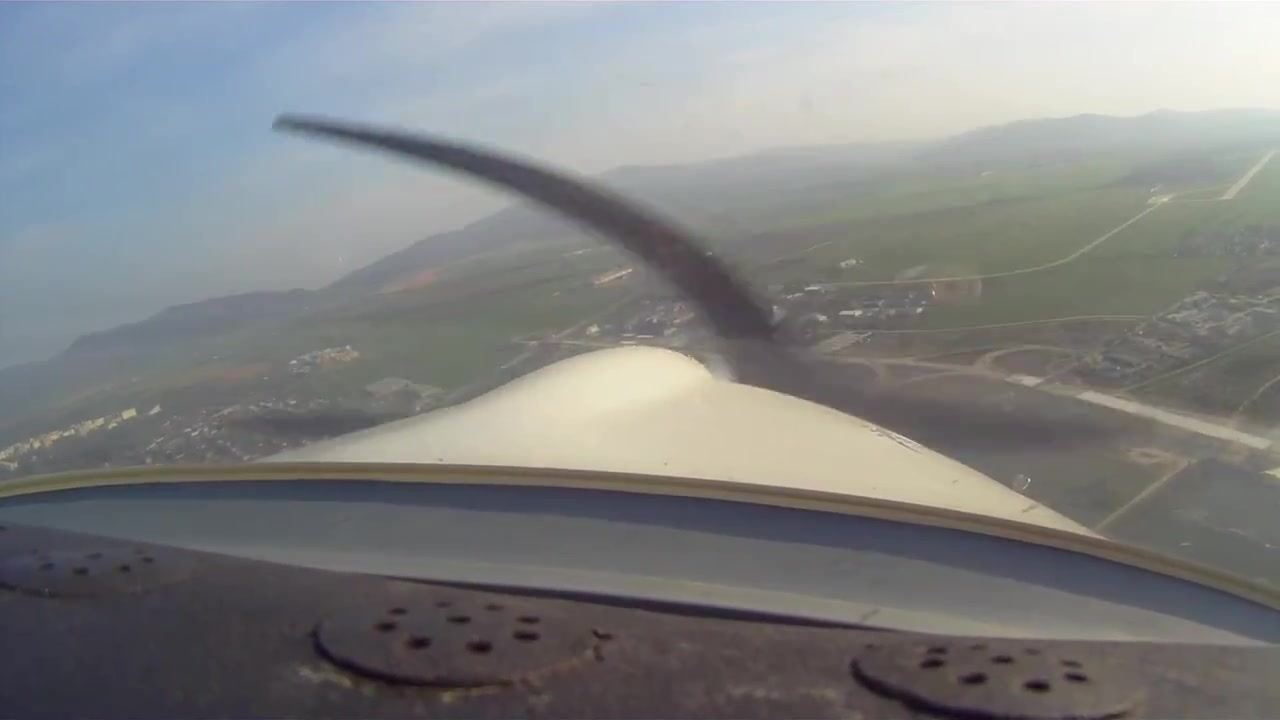runway: (1219, 149, 1276, 202)
